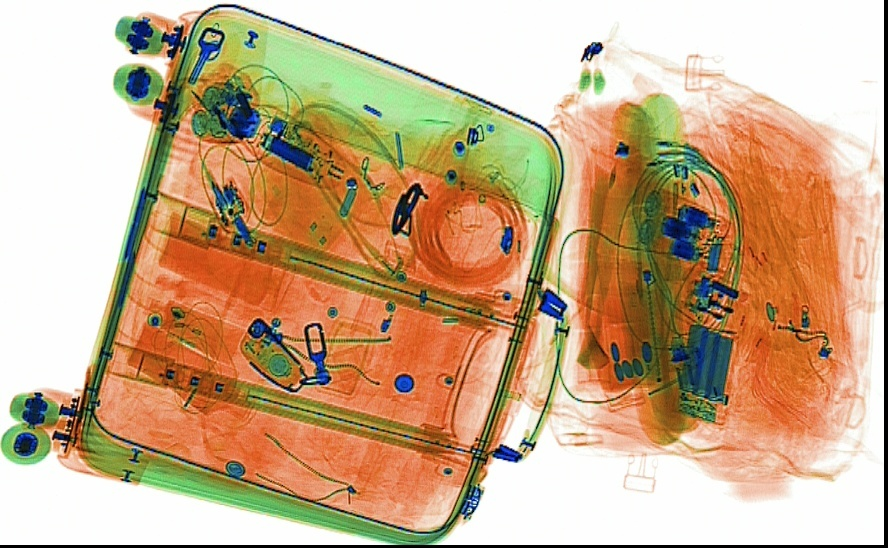powerbank: (673, 321, 740, 427)
